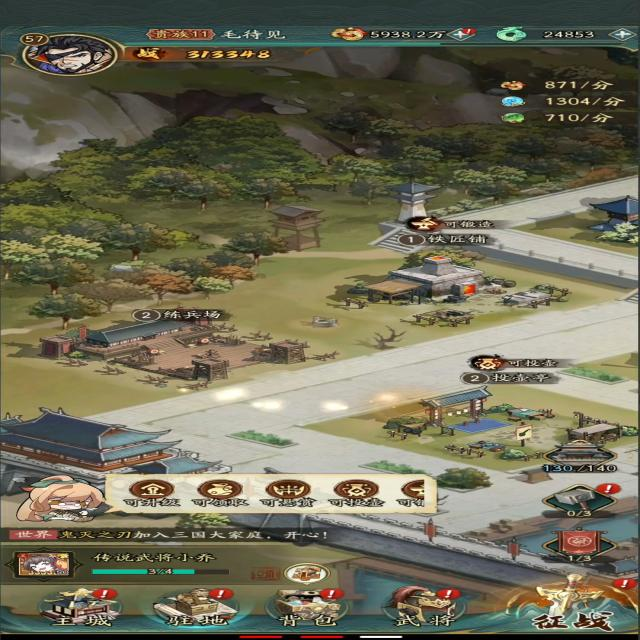hint-reddot: (594, 481, 632, 497), (204, 586, 241, 600), (87, 586, 120, 601), (432, 587, 464, 602), (317, 589, 345, 602), (453, 26, 483, 36), (616, 575, 632, 590)
navigation-bag: (265, 584, 357, 628)
navigation-fight: (486, 572, 640, 637)
navigation-hero: (376, 578, 481, 632)
navigation-lianbingchang: (37, 306, 336, 388)
navigation-main: (25, 582, 128, 629)
navigation-role: (3, 23, 135, 81)
navigation-station-on: (136, 580, 252, 632)
navigation-tiejiangpu: (342, 231, 570, 327)
navigation-touhuting: (369, 367, 640, 472)
